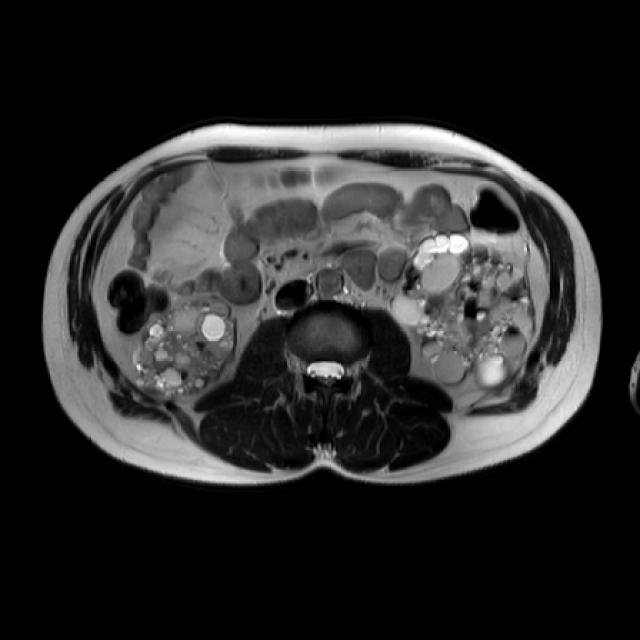sag: (133, 295, 238, 394)
sol: (394, 233, 535, 387)
